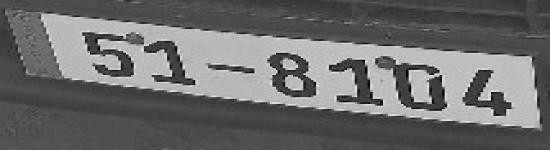-: (205, 61, 259, 78)
0: (391, 61, 449, 112)
1: (325, 57, 386, 106), (142, 39, 200, 86)
4: (461, 67, 515, 119)
5: (80, 29, 139, 82)
8: (259, 49, 321, 101)
